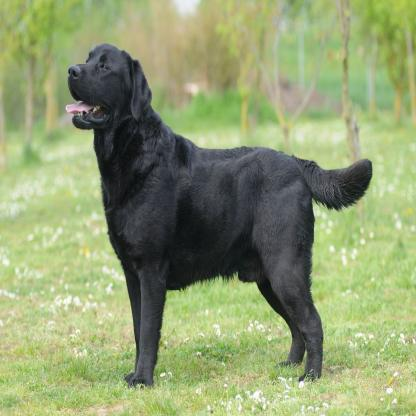Labarador Retriever: (65, 38, 373, 386)
